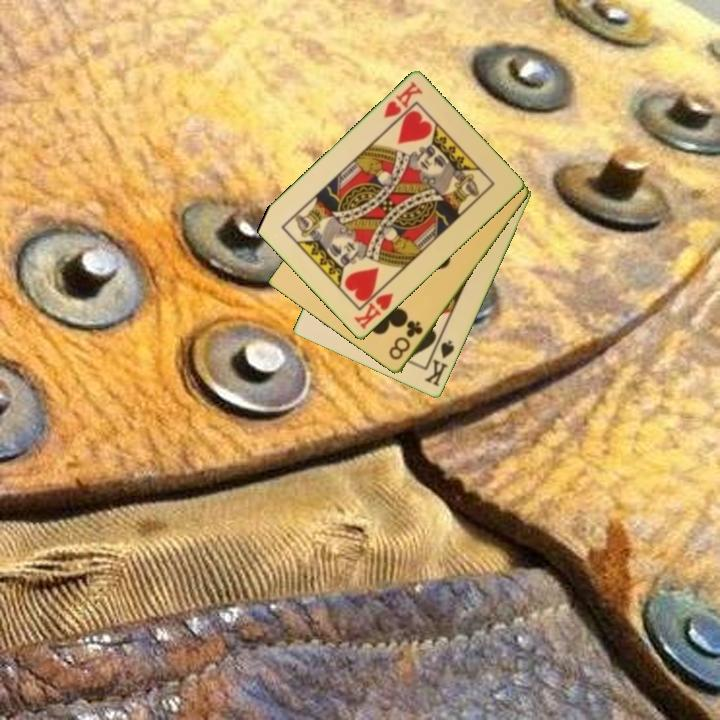8c: (385, 317, 426, 363)
Kh: (350, 281, 397, 333), (380, 78, 426, 121)
Ks: (421, 333, 457, 390)
